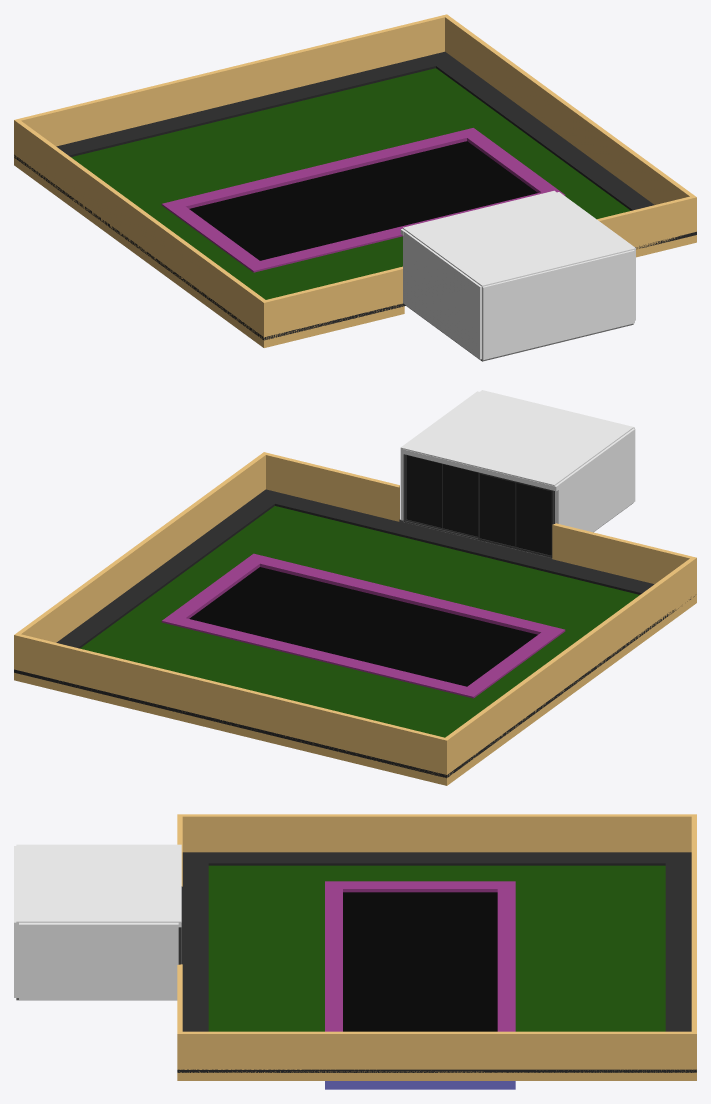
File: Garden+Room+3D.fbx
3 views of the same model, one above another, from view 1: azimuth 30°, elevation 25°; view 2: azimuth 150°, elevation 25°; view 3: azimuth 270°, elevation 25° (orthographic). The views are drawn at different scales.
Parts seen in each view (by area): view 1: Rectangle008, Box007, Rectangle005, Box031, Rectangle001, Box003, Rectangle002, Box002; view 2: Rectangle008, Box007, Rectangle005, Rectangle001, Box031, SlidingWindow001, Rectangle002, Box002, Box004; view 3: Box007, Rectangle008, Rectangle005, Rectangle001, Box031, Box005, Rectangle002, Rectangle006, Box003, Rectangle007.
Part boxes in pixels (bbox=[...]): Rectangle008: bbox=[14, 14, 696, 347]; Box007: bbox=[71, 68, 630, 299]; Rectangle005: bbox=[189, 141, 537, 260]; Box031: bbox=[403, 190, 633, 286]; Rectangle001: bbox=[14, 51, 696, 340]; Box003: bbox=[482, 250, 634, 359]; Rectangle002: bbox=[161, 128, 565, 272]; Box002: bbox=[403, 230, 481, 359]; Rectangle008: bbox=[14, 452, 696, 785]; Box007: bbox=[80, 506, 639, 737]; Rectangle005: bbox=[189, 567, 537, 686]; Rectangle001: bbox=[14, 489, 694, 778]; Box031: bbox=[403, 390, 633, 486]; SlidingWindow001: bbox=[403, 454, 554, 557]; Rectangle002: bbox=[161, 553, 565, 698]; Box002: bbox=[555, 428, 635, 532]; Box004: bbox=[402, 449, 558, 491]; Box007: bbox=[208, 865, 665, 1031]; Rectangle008: bbox=[177, 814, 696, 1080]; Rectangle005: bbox=[343, 892, 497, 1031]; Rectangle001: bbox=[177, 852, 696, 1072]; Box031: bbox=[16, 844, 181, 922]; Box005: bbox=[19, 922, 178, 999]; Rectangle002: bbox=[325, 881, 515, 1031]; Rectangle006: bbox=[325, 1081, 515, 1088]; Box003: bbox=[14, 846, 18, 997]; Rectangle007: bbox=[325, 1087, 515, 1089].
Size of the model in its own units: 2000 by 541 by 2629.
